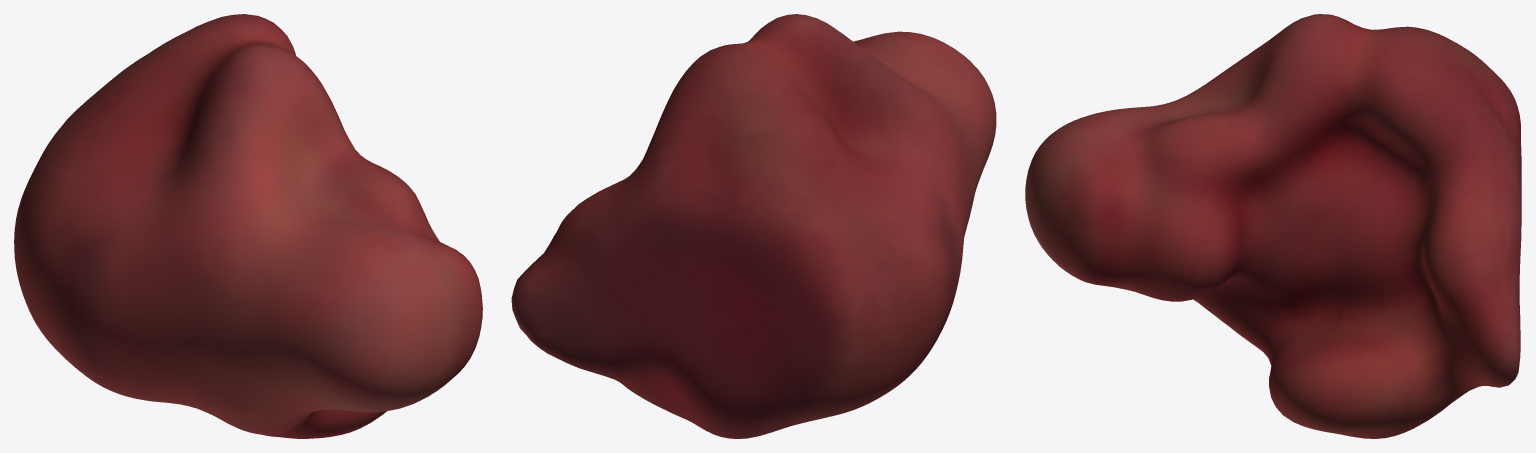
3 renders of one model, left to right at view 1: azimuth 30°, elevation 25°; view 2: azimuth 150°, elevation 25°; view 3: azimuth 270°, elevation 25°, orthographic. The views are drawn at different scales.
Bounding box in the file's own units: 0.0759 × 0.0776 × 0.0918.
